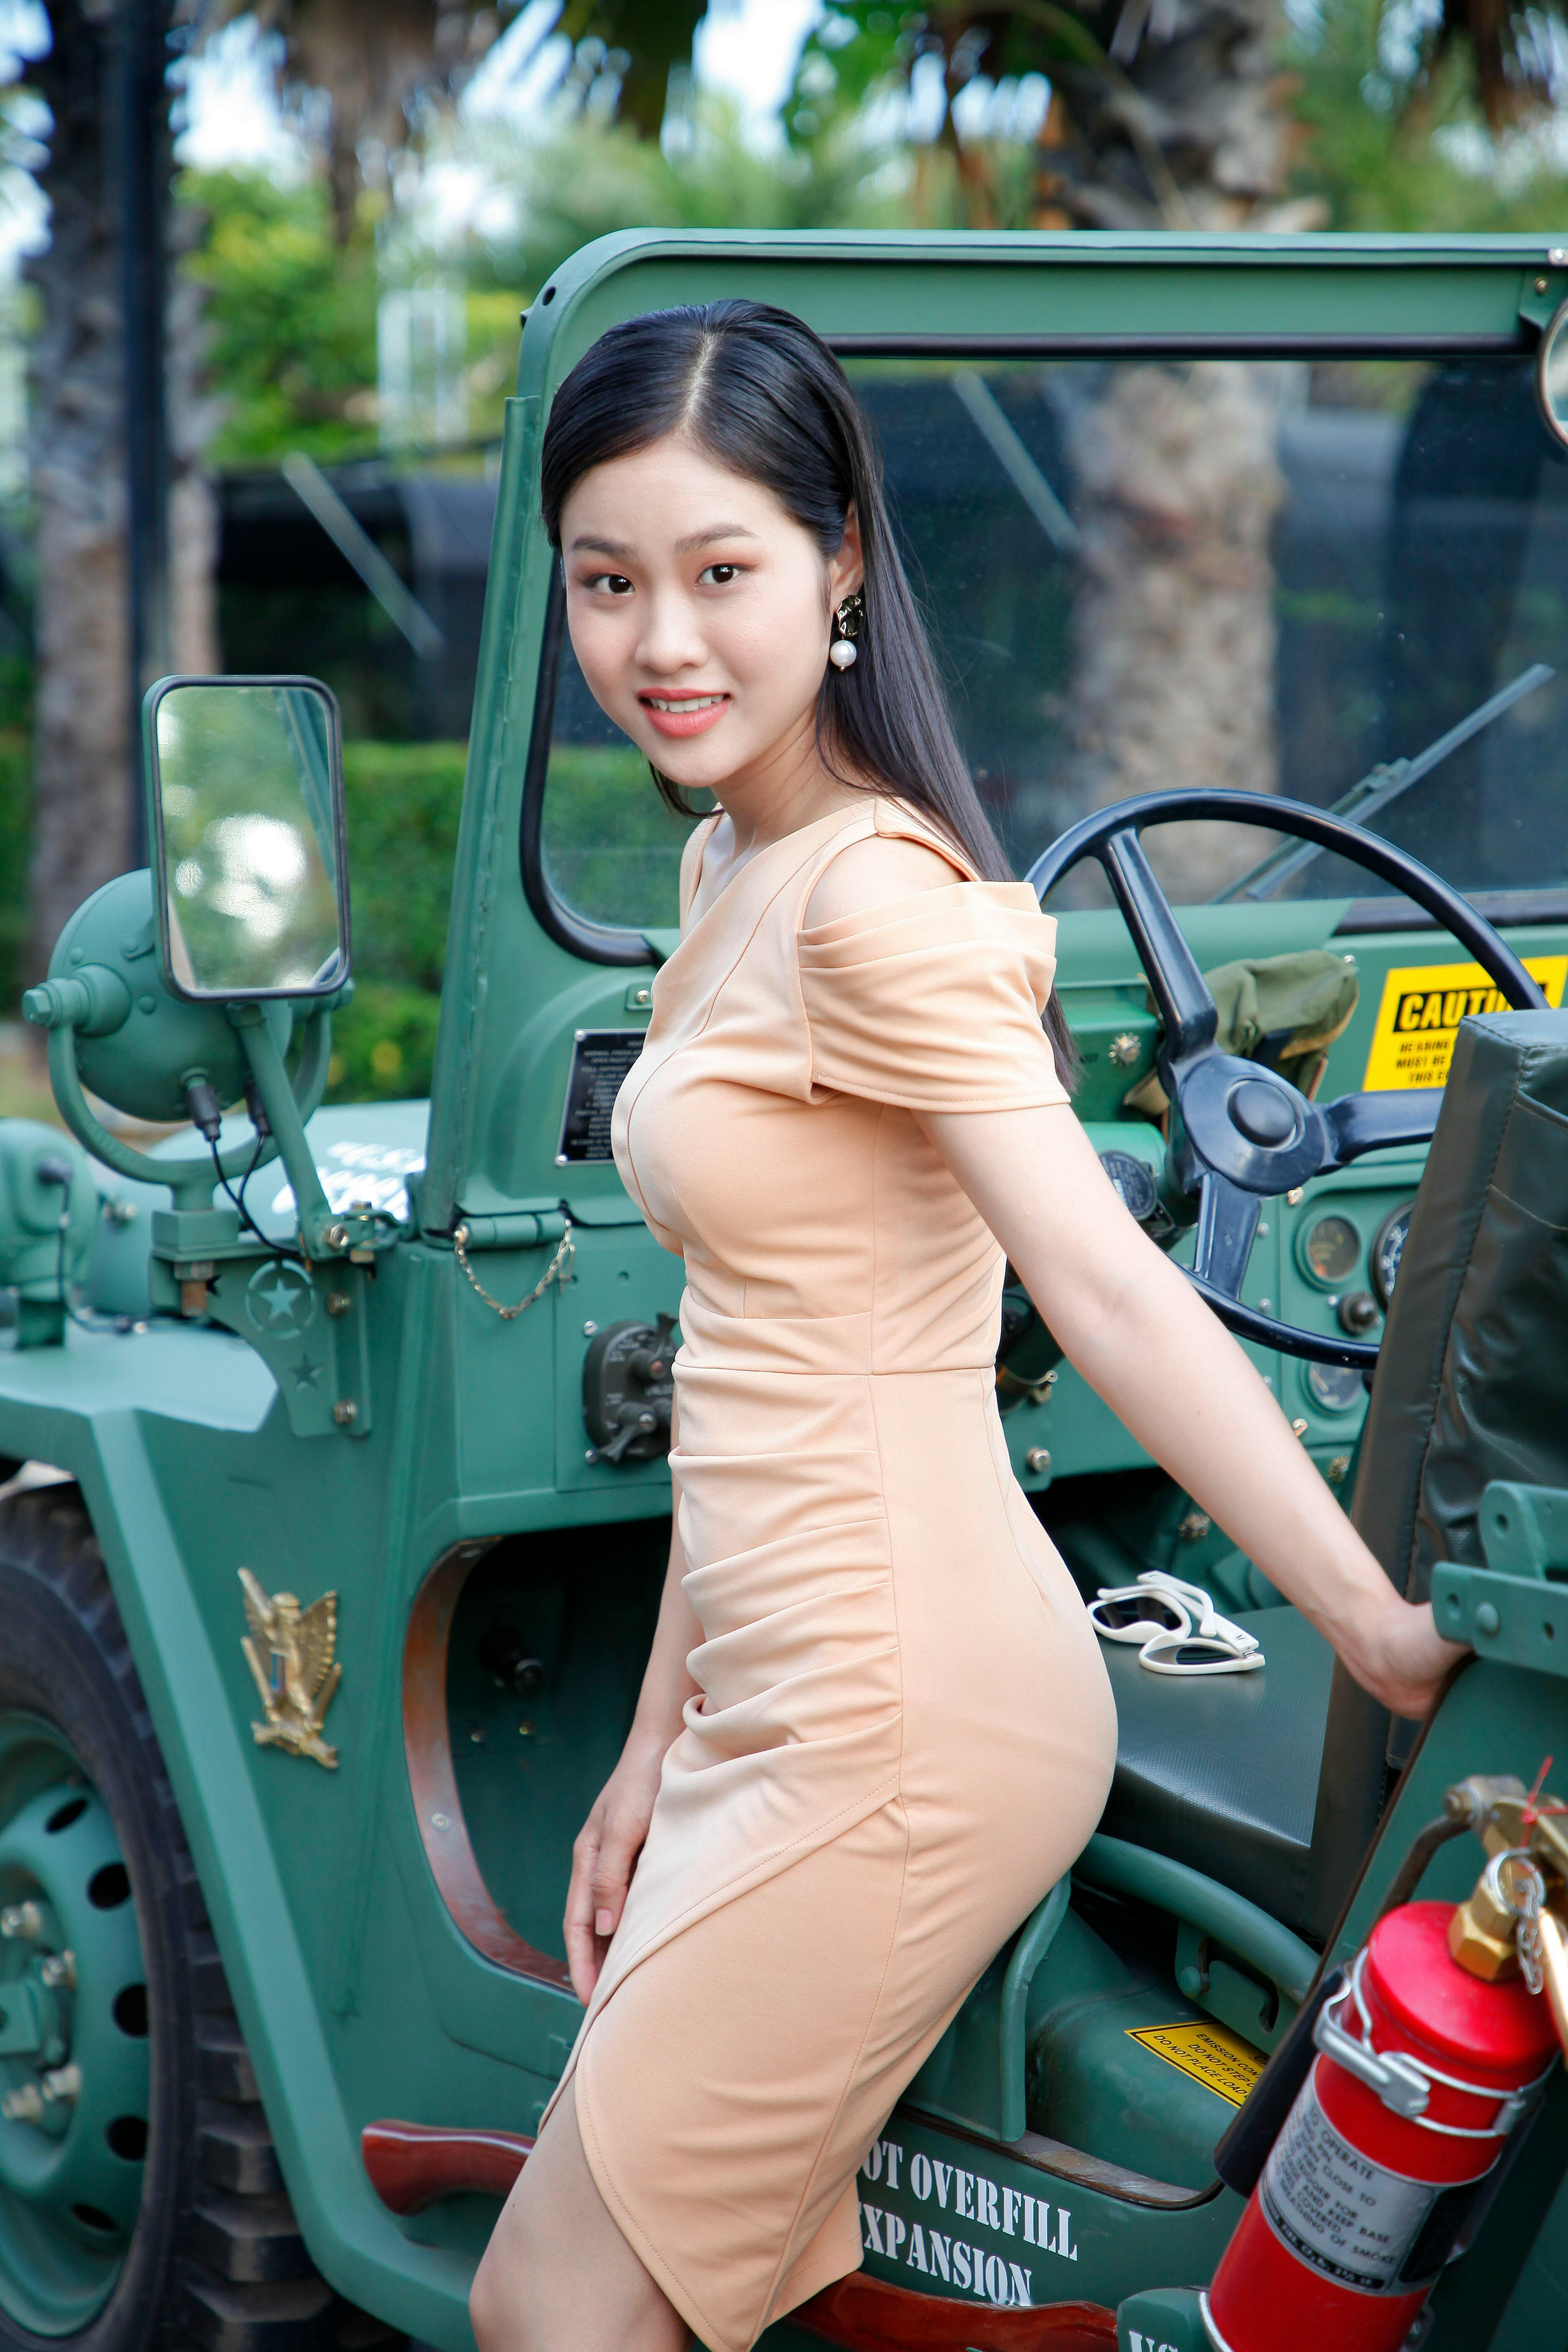extintor: (1176, 1766, 1566, 2350)
